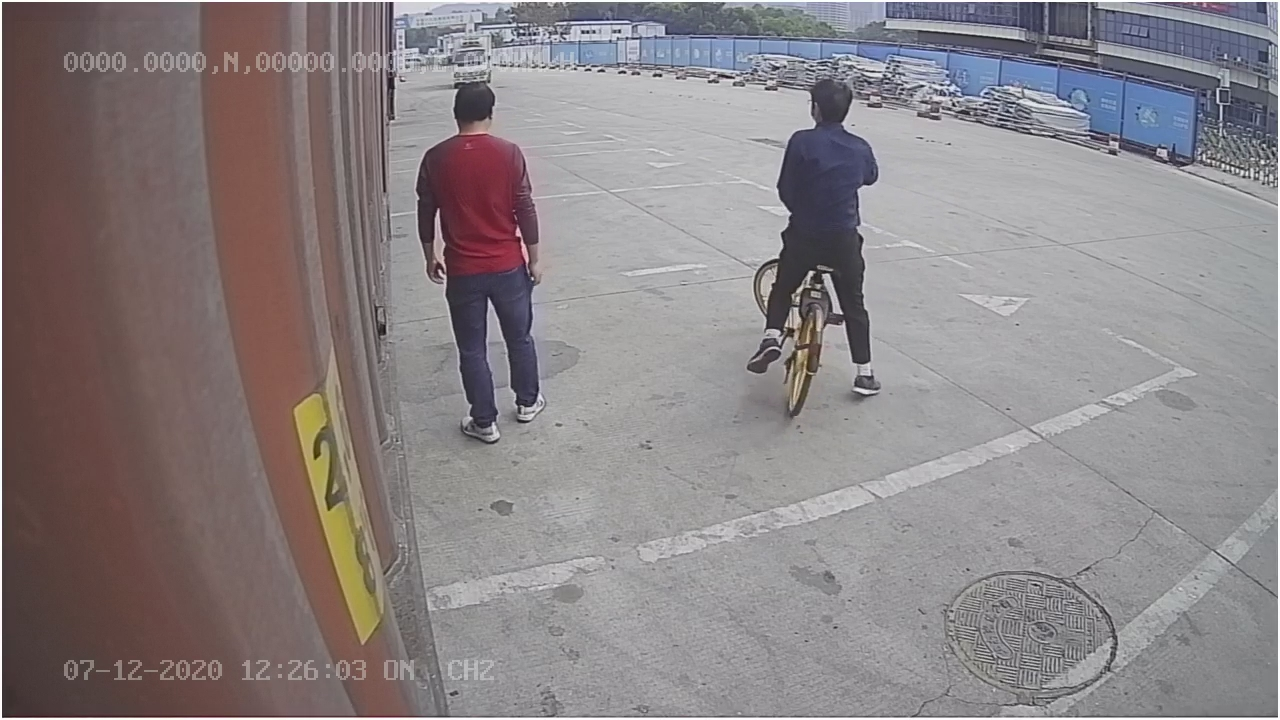person: (409, 76, 551, 452)
